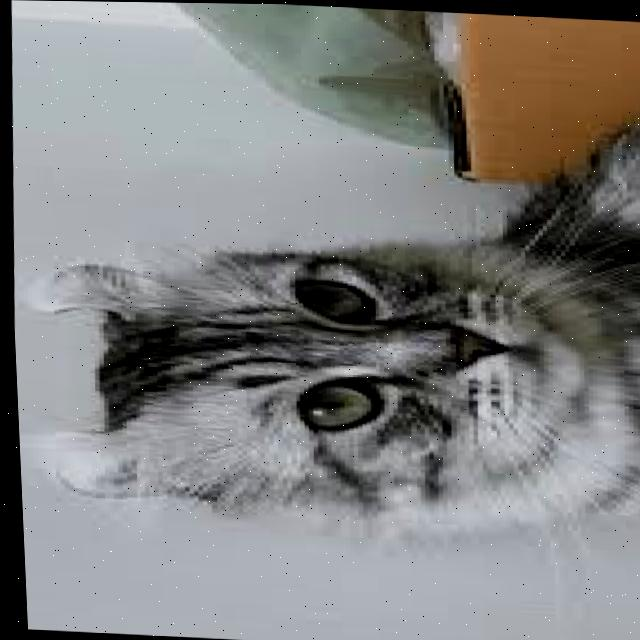American Curl: (2, 56, 640, 571)
